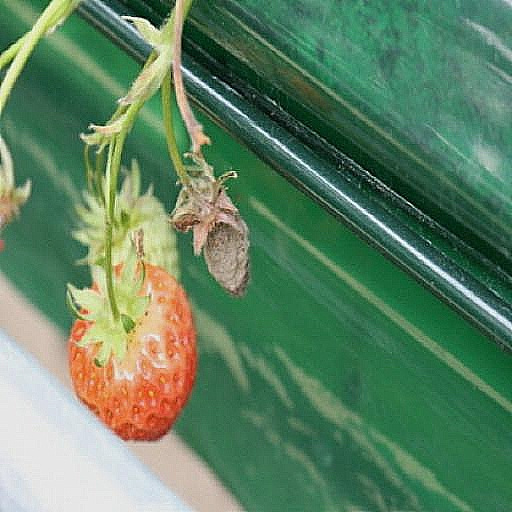Gray Mold: (259, 151, 344, 298)
